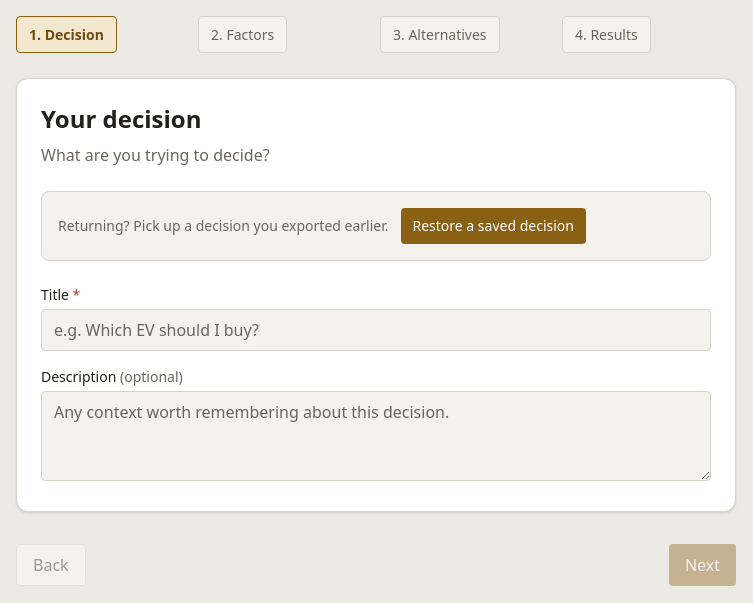
DecisionStep › enables Next once a non-blank title is entered
Expected: the button "Next" is disabled, [669,544,736,586]
Step 1. Type "Car" into the field labelled "Title *" → (376, 330), box [41,309,711,351]
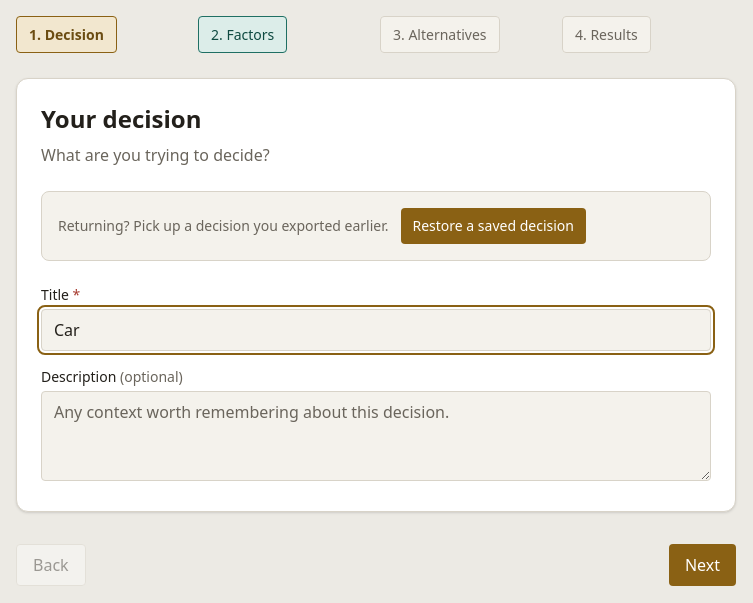
Result: the button "Next" is enabled at [669,544,736,586]
